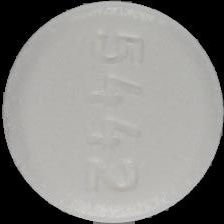10544-046: (0, 0, 224, 224)
